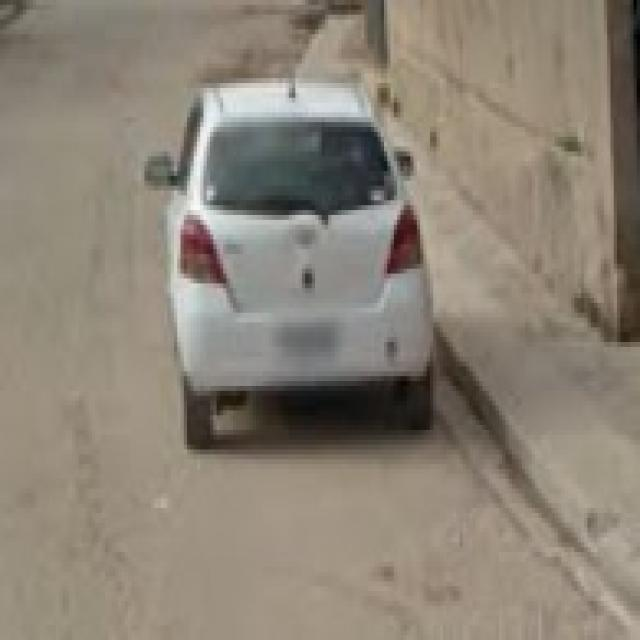Car: (153, 83, 439, 443)
